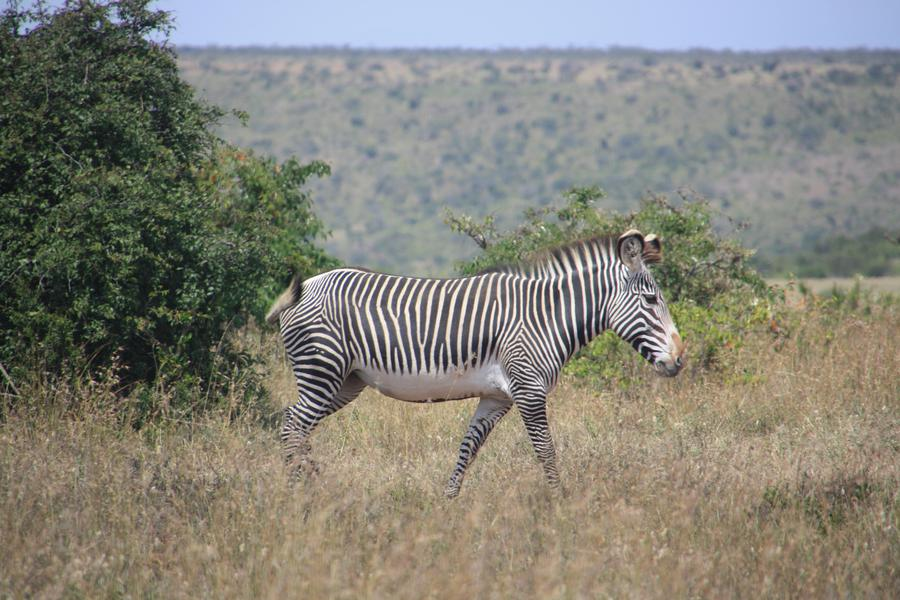zebra_grevys: (275, 255, 554, 388)
